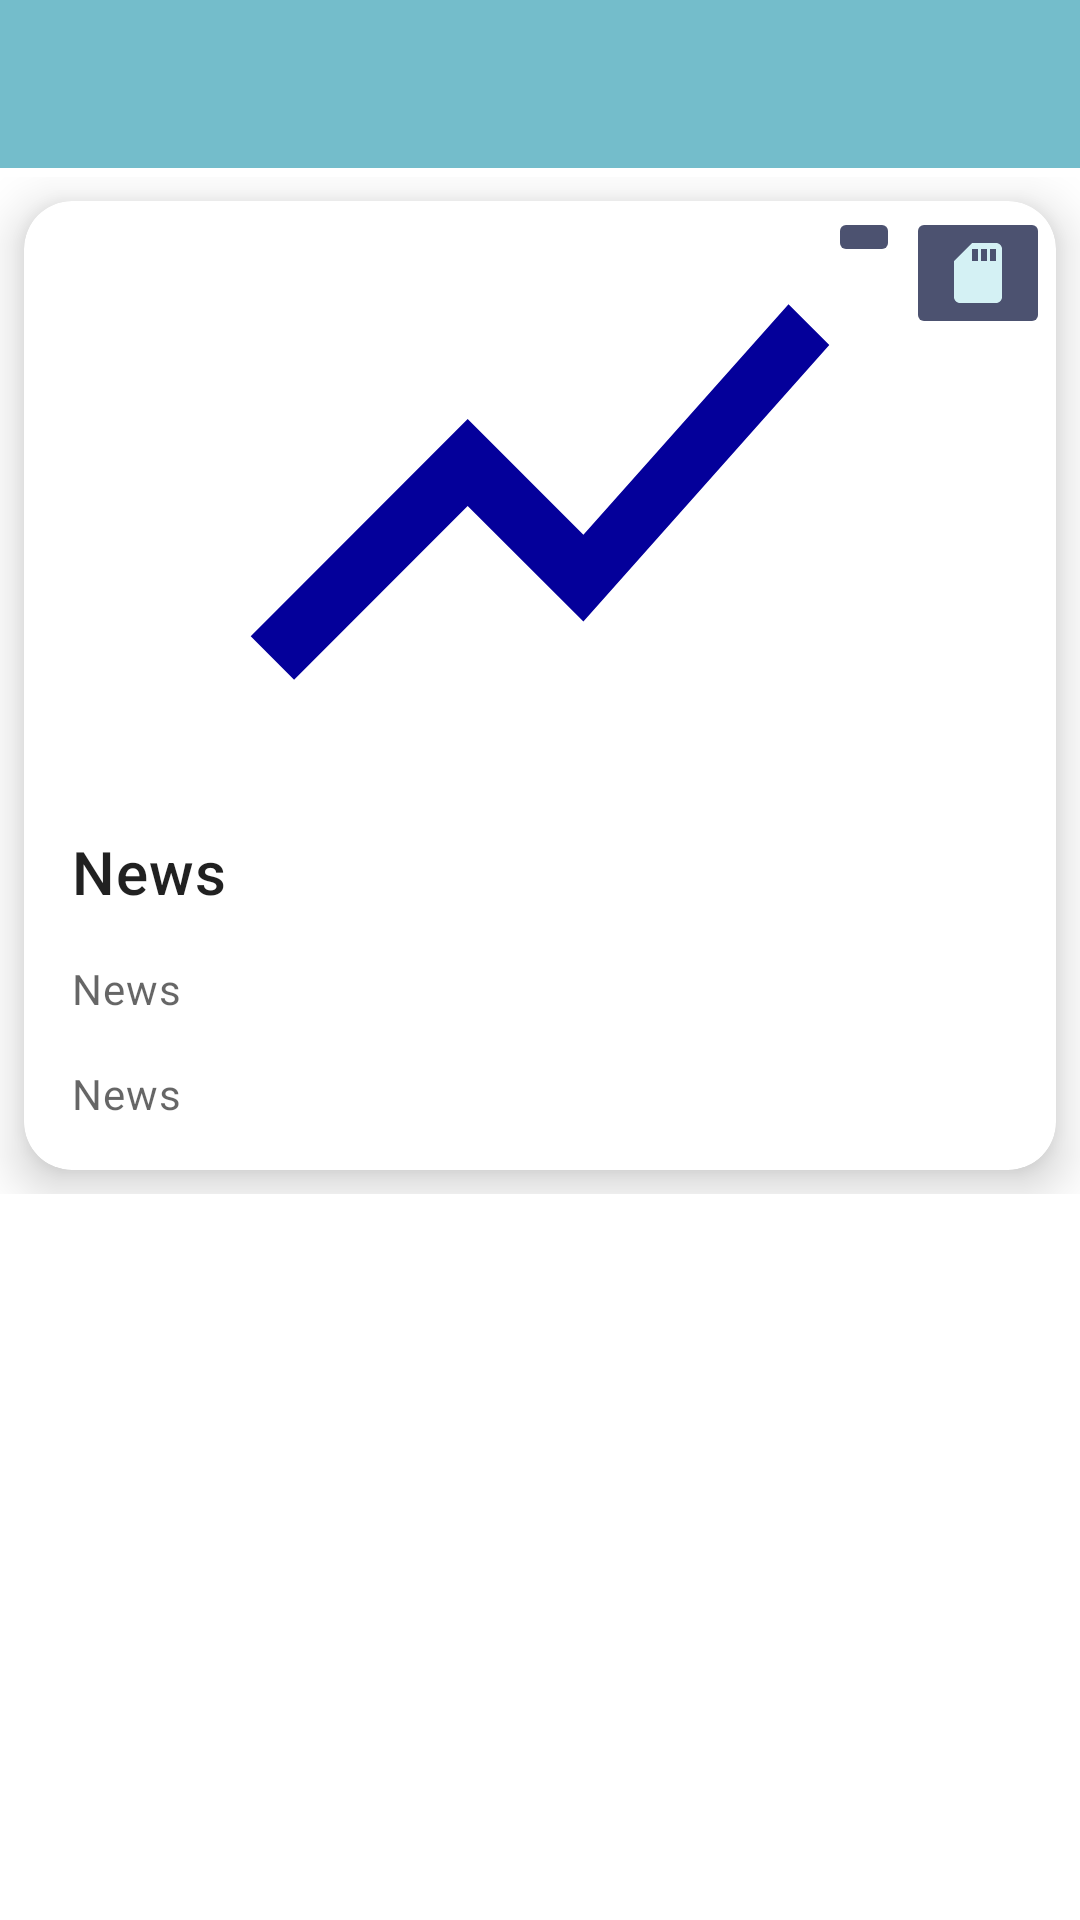

Icons on this 1080×1920 Android screen, each with its box as box=[x1, y1, x2, y2]:
storage: box=[918, 225, 1038, 321]
